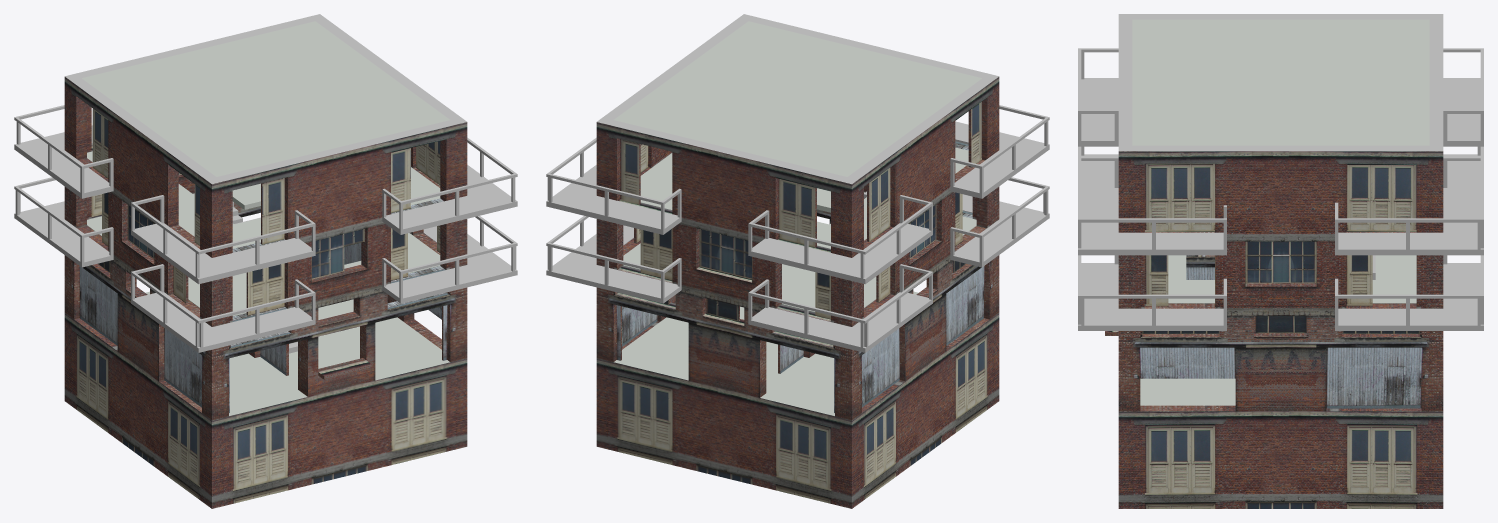
File: BagBuilding3_200.fbx
The picture shows the model from 3 angles, left to right: view 1: azimuth 30°, elevation 25°; view 2: azimuth 150°, elevation 25°; view 3: azimuth 270°, elevation 25°; orthographic projection. The views are drawn at different scales.
Visible parts, largest first — view 1: mainA200, balconies200, roof200, floors2000; view 2: mainA200, balconies200, roof200, floors2000; view 3: mainA200, balconies200, roof200, floors2000.
Boxes of the visible parts, <box> form: mainA200: <box>64,77,467,508</box>; balconies200: <box>14,14,517,352</box>; roof200: <box>82,21,449,176</box>; floors2000: <box>87,151,449,415</box>; mainA200: <box>596,77,999,508</box>; balconies200: <box>546,14,1049,352</box>; roof200: <box>614,21,981,176</box>; floors2000: <box>614,147,976,415</box>; mainA200: <box>1105,151,1443,508</box>; balconies200: <box>1078,14,1483,330</box>; roof200: <box>1132,19,1429,145</box>; floors2000: <box>1140,255,1416,405</box>.
Bounding box in the file's own units: 20.38 × 19.81 × 20.38.
